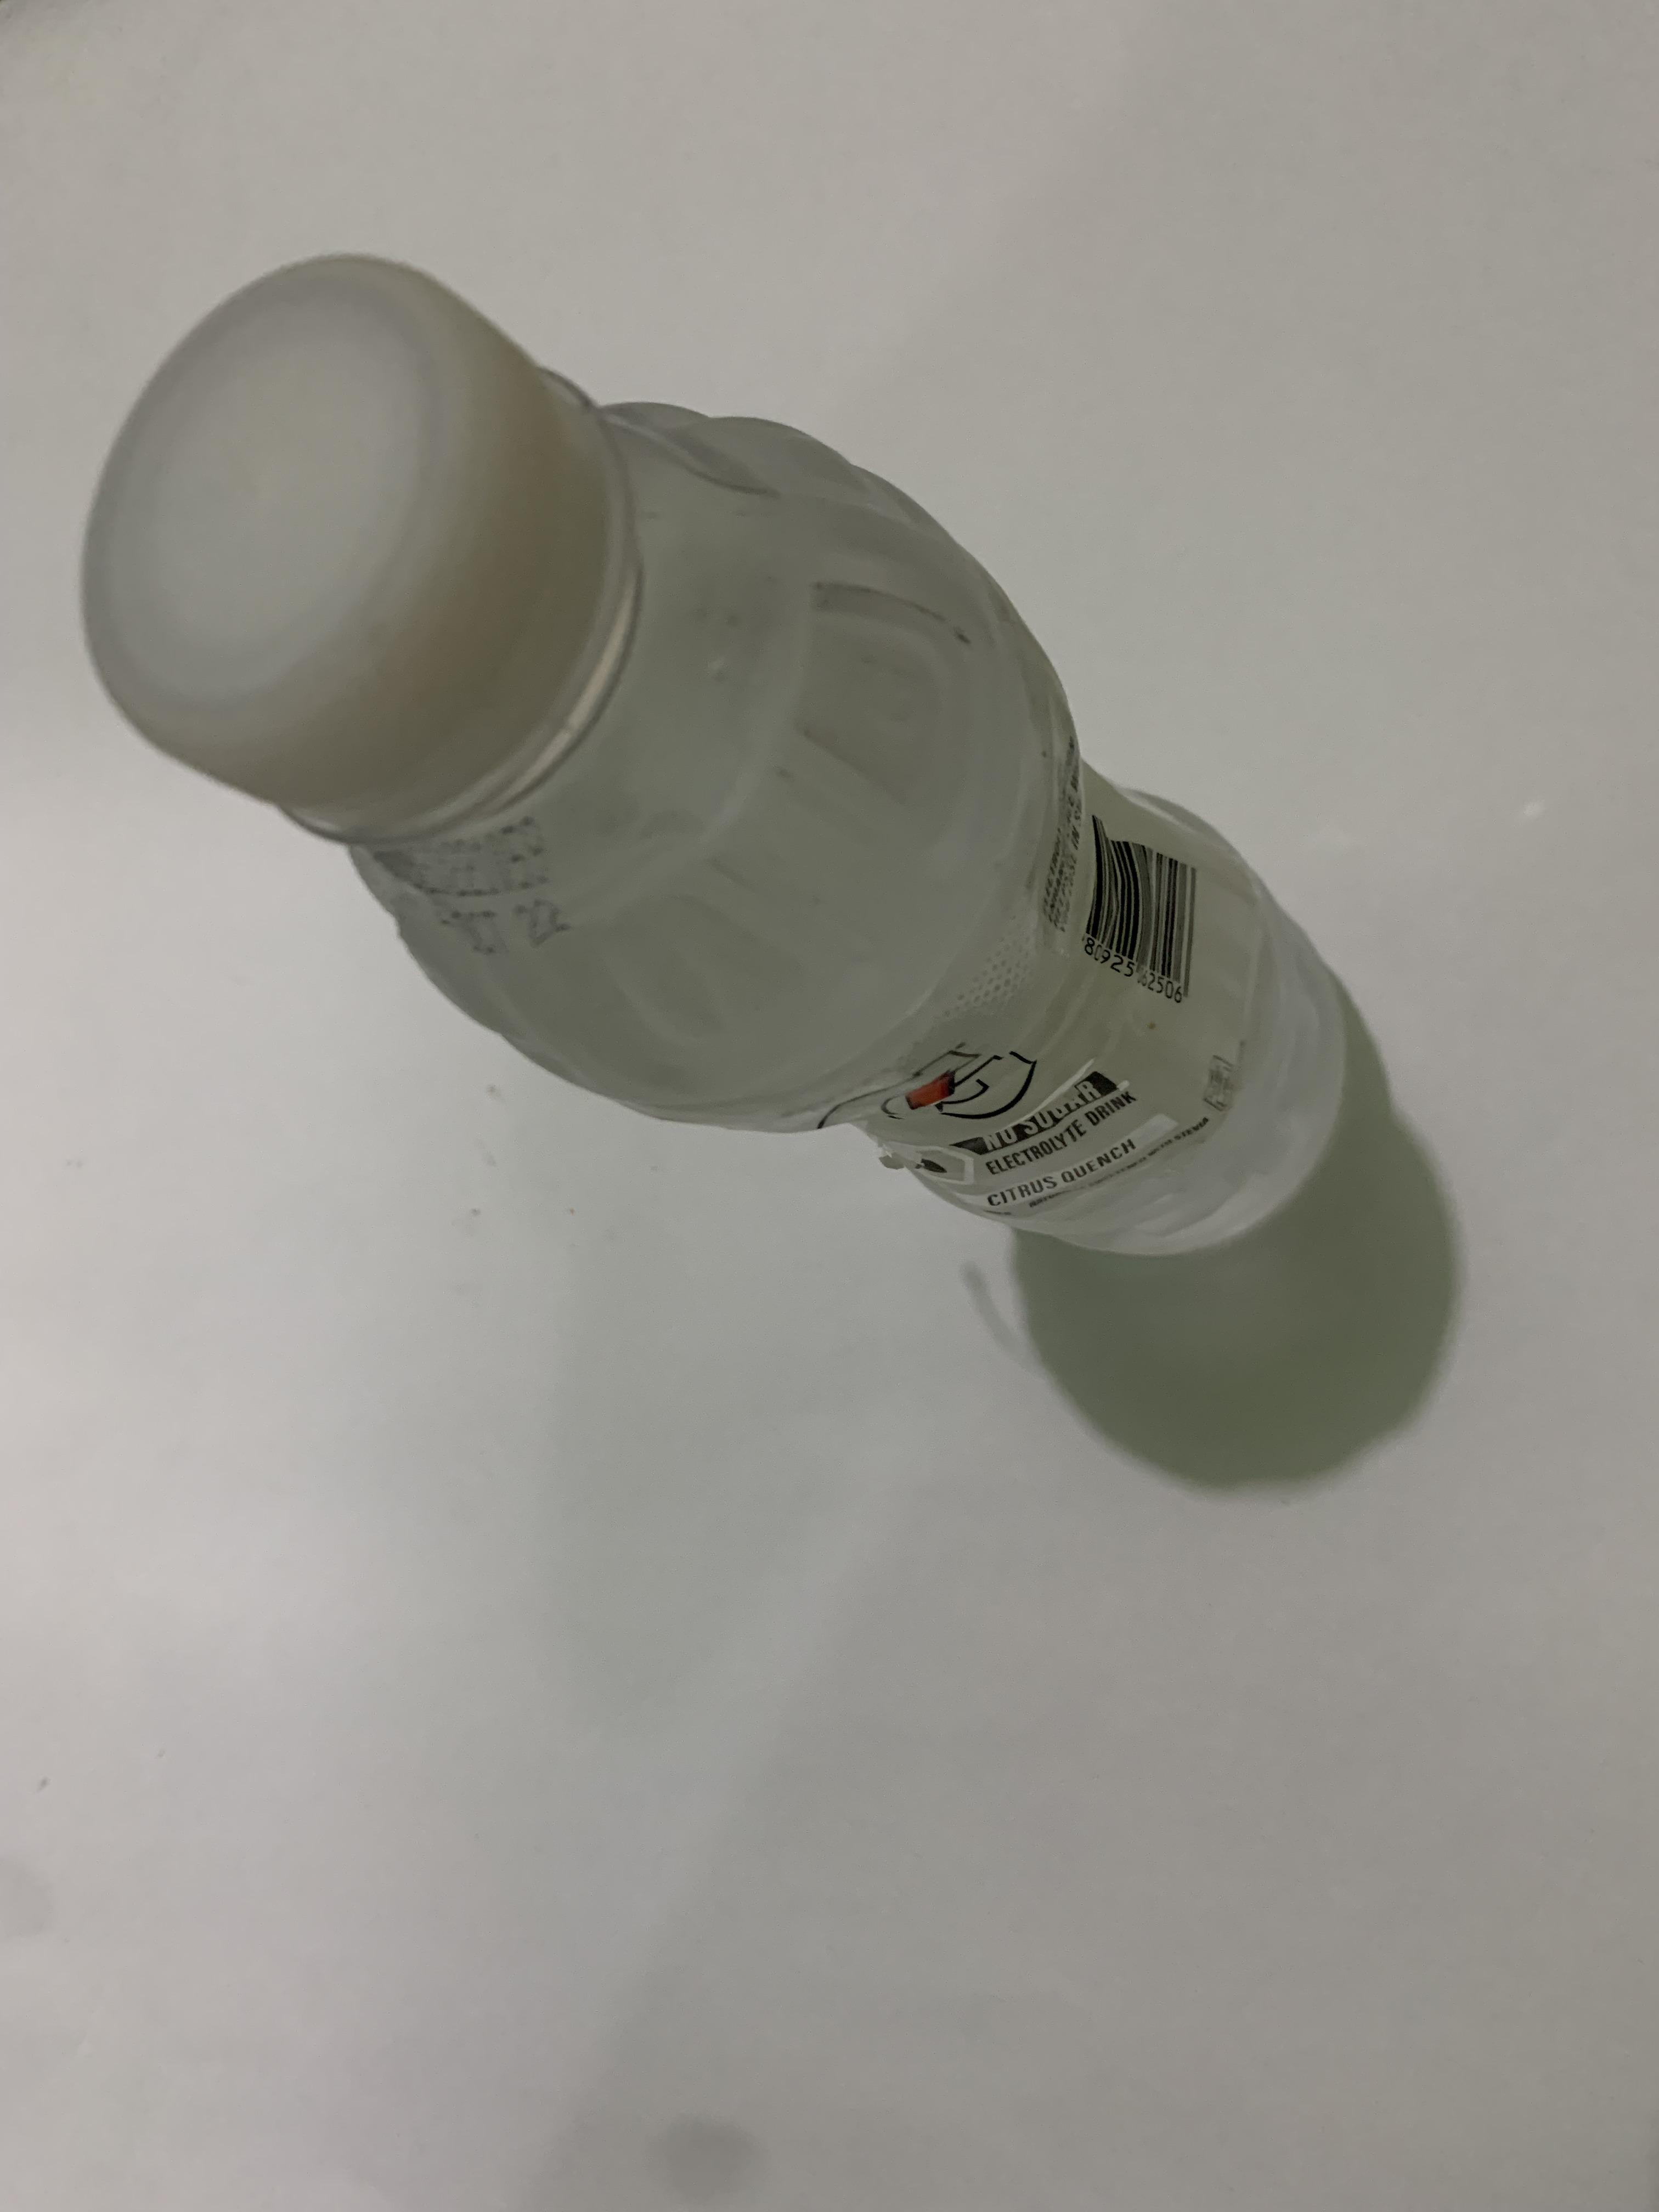bottle: (70, 242, 1359, 1268)
